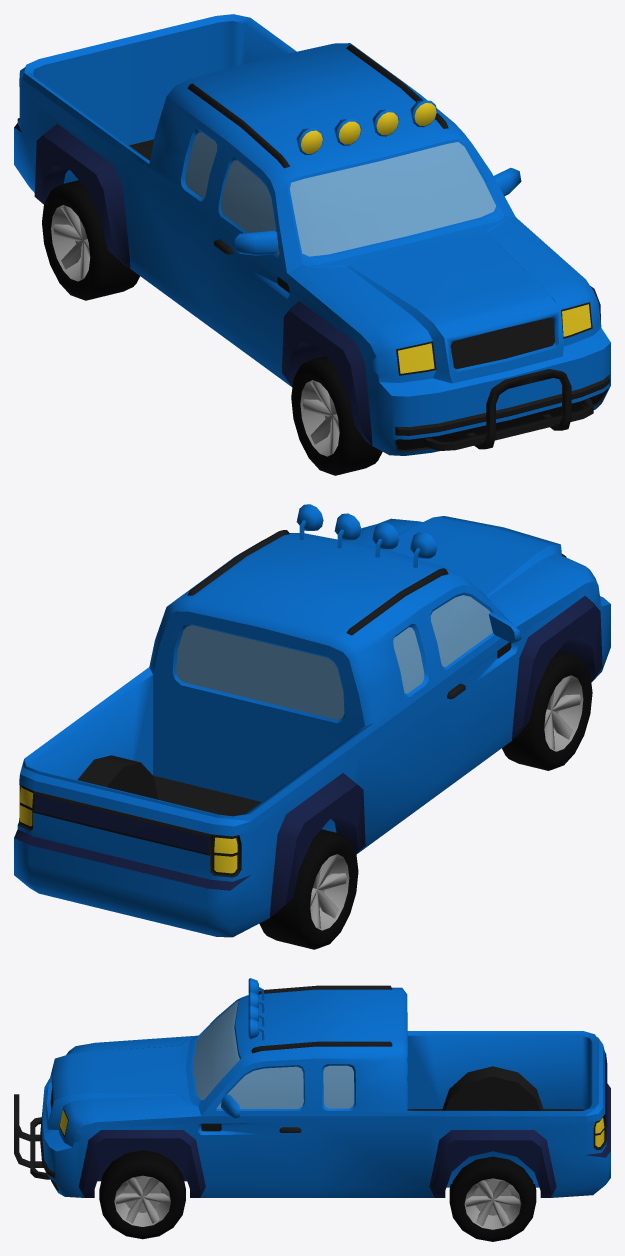
Rendered from Car_C.fbx.
The picture shows the model from 3 angles, top to bottom: view 1: azimuth 30°, elevation 25°; view 2: azimuth 150°, elevation 25°; view 3: azimuth 270°, elevation 25°; orthographic projection. The views are drawn at different scales.
Parts seen in each view (by area): view 1: Car_C, Car_C_Wheel_R_R, Car_C_Wheel_F_R; view 2: Car_C, Car_C_Wheel_R_R, Car_C_Wheel_F_R; view 3: Car_C, Car_C_Wheel_F_L, Car_C_Wheel_R_L.
Part boxes in pixels (left/top/right/bottom): Car_C: left=14, top=14, right=610, bottom=455; Car_C_Wheel_R_R: left=42, top=180, right=139, bottom=300; Car_C_Wheel_F_R: left=291, top=356, right=382, bottom=475; Car_C: left=14, top=504, right=610, bottom=937; Car_C_Wheel_R_R: left=259, top=829, right=358, bottom=949; Car_C_Wheel_F_R: left=502, top=651, right=592, bottom=770; Car_C: left=14, top=978, right=610, bottom=1197; Car_C_Wheel_F_L: left=99, top=1150, right=185, bottom=1239; Car_C_Wheel_R_L: left=449, top=1156, right=536, bottom=1241.
Bounding box in the file's own units: 55.72 × 51.05 × 139.
